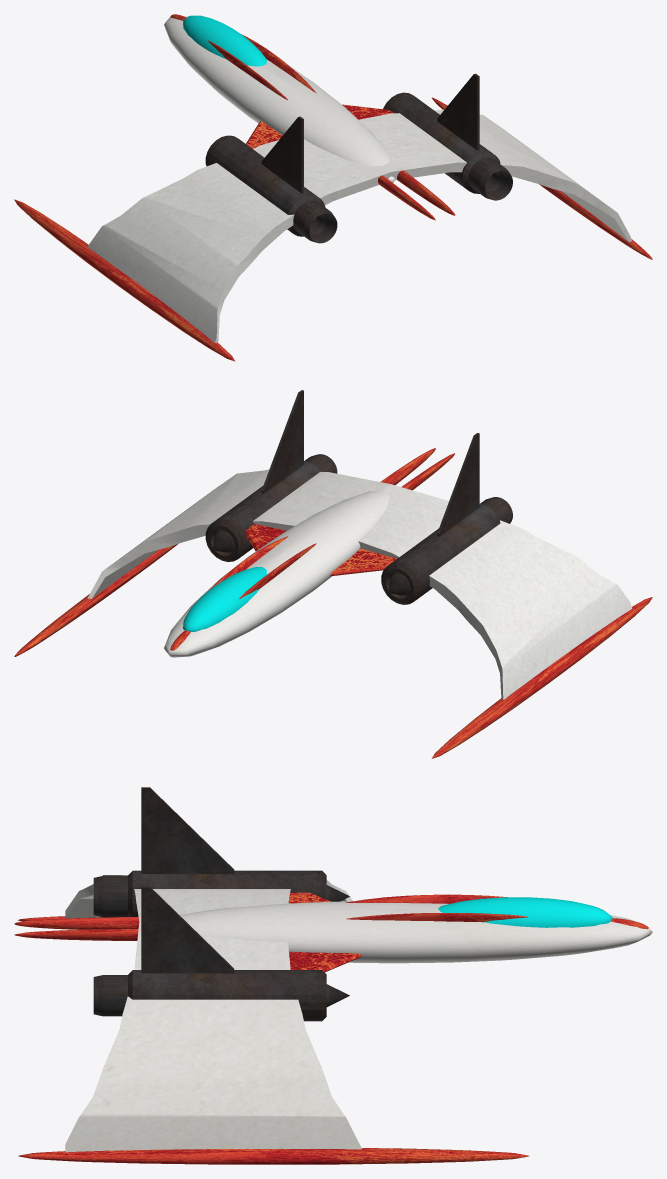
The model's file is EnemyFighter.fbx.
3 views of the same model, one above another, from view 1: azimuth 30°, elevation 25°; view 2: azimuth 150°, elevation 25°; view 3: azimuth 270°, elevation 25° (orthographic). The views are drawn at different scales.
Visible parts, largest first — view 1: group5; view 2: group5; view 3: group5.
Part boxes in pixels (box(x1,y1,x2,y2)): group5: box(14, 14, 652, 361); group5: box(14, 390, 652, 758); group5: box(14, 787, 652, 1164).
Bounding box in the file's own units: 22.16 × 8.78 × 24.51.
6 materials, 5 textured.
